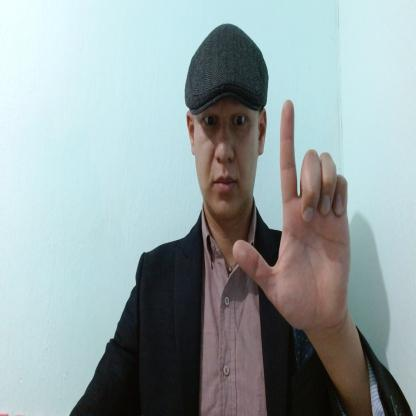L: (232, 100, 352, 328)
